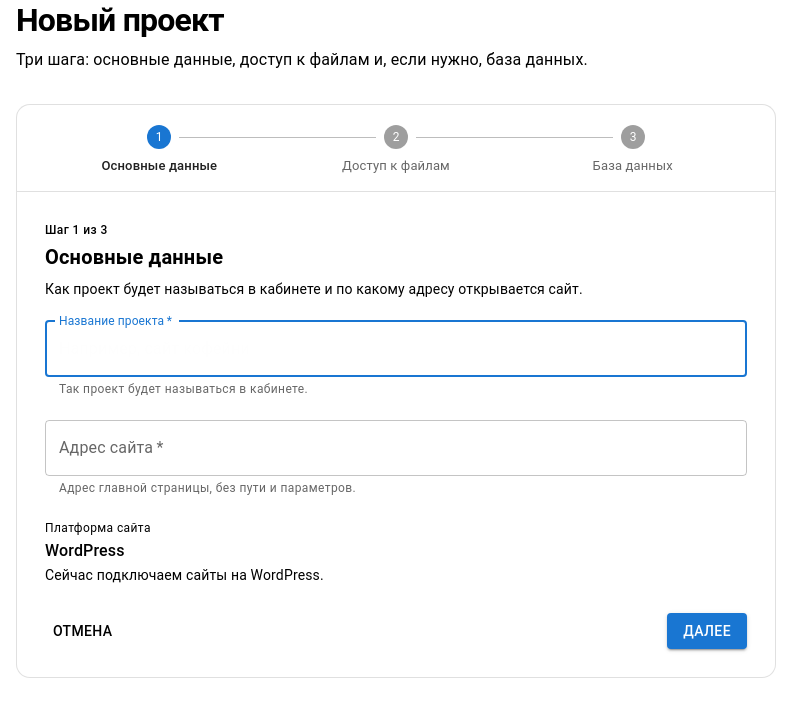
the access to the files › offers SSH and FTP on two tabs with the usual ports
Type "Кофейня" into the field labelled "Название проекта *".
click(396, 349); type("Кофейня")  # box [45, 321, 747, 377]
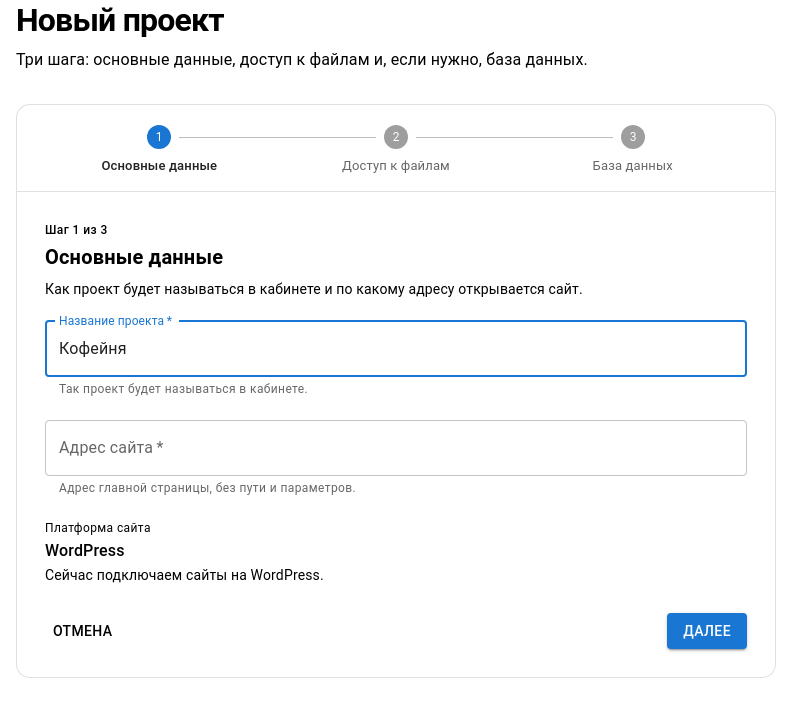
Type "example.ru" into the field labelled "Адрес сайта *".
click(396, 448); type("example.ru")  # box [45, 420, 747, 476]
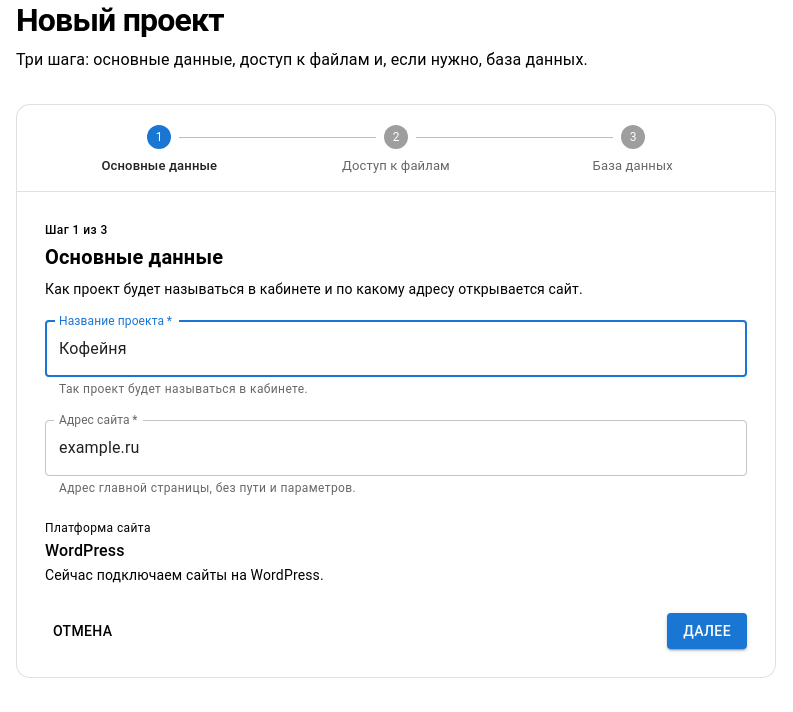
Click the button "Далее".
click(707, 631)  # box [667, 613, 747, 649]
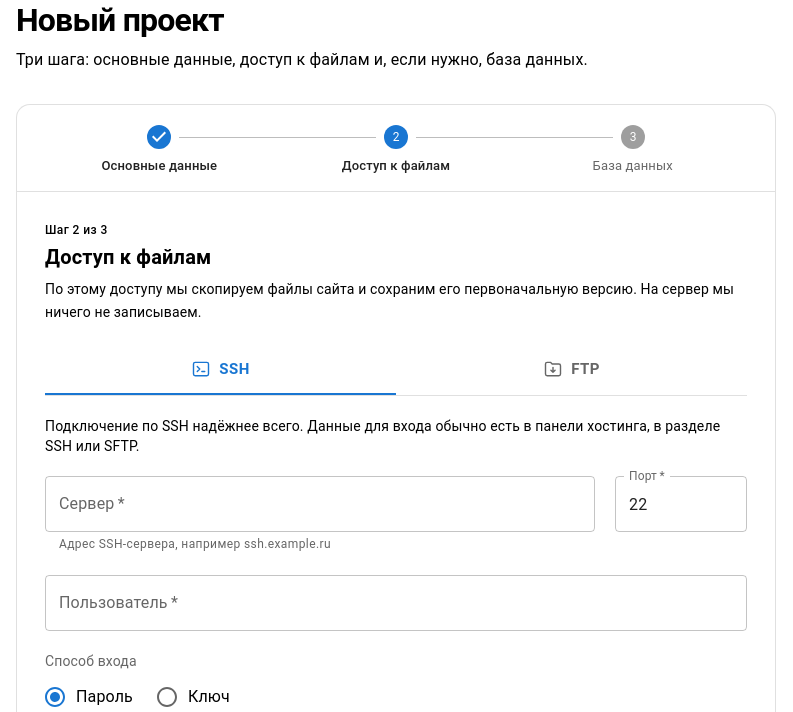
Now the heading "Доступ к файлам" is shown, box [45, 246, 211, 270]
Now the tabs read "SSH", "FTP", in this order
Now the field labelled "Порт *" holds "22", box [615, 476, 747, 532]
Click the tab "FTP".
click(572, 369)  # box [396, 343, 747, 395]
(page scrolled)
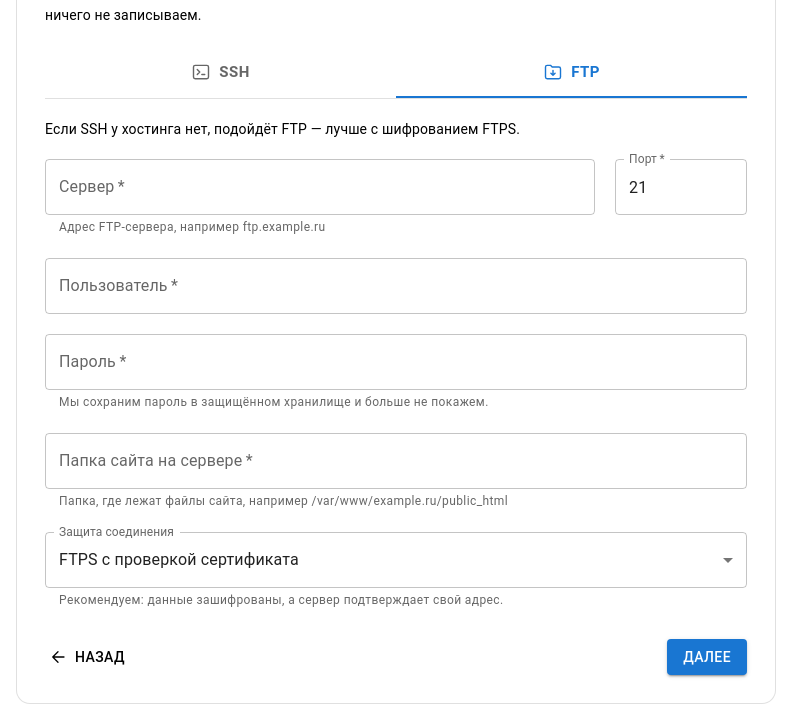
Now the field labelled "Порт *" holds "21", box [615, 159, 747, 215]
Now the dropdown named "Защита соединения" reads "FTPS с проверкой сертификата", box [59, 550, 299, 570]
